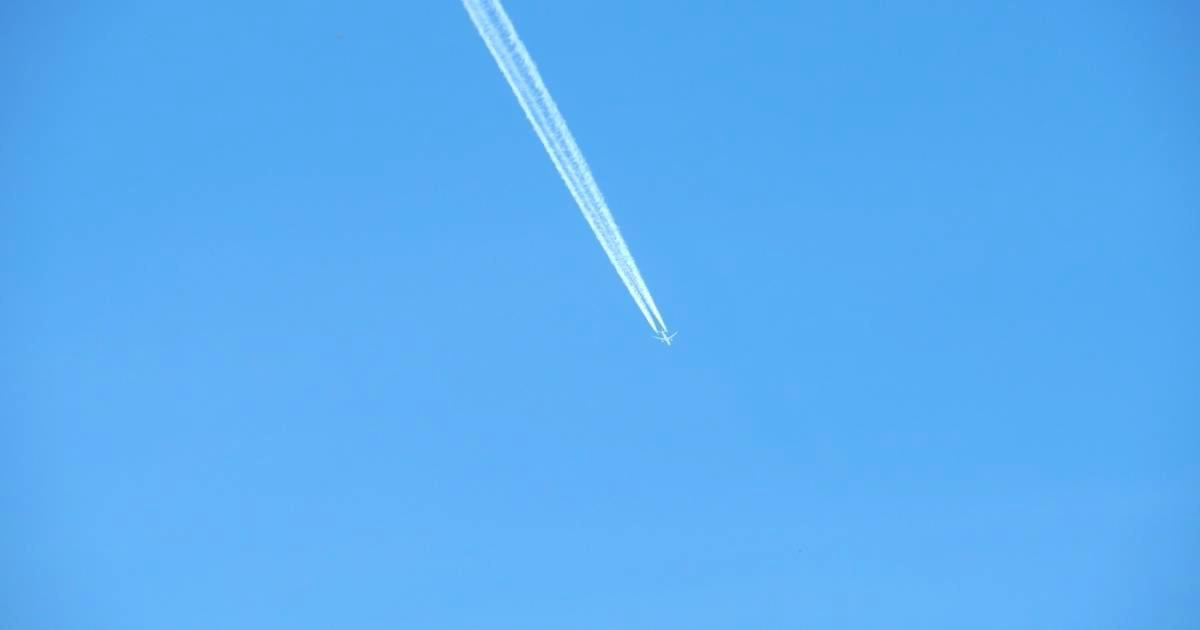Plane: (454, 21, 742, 354)
